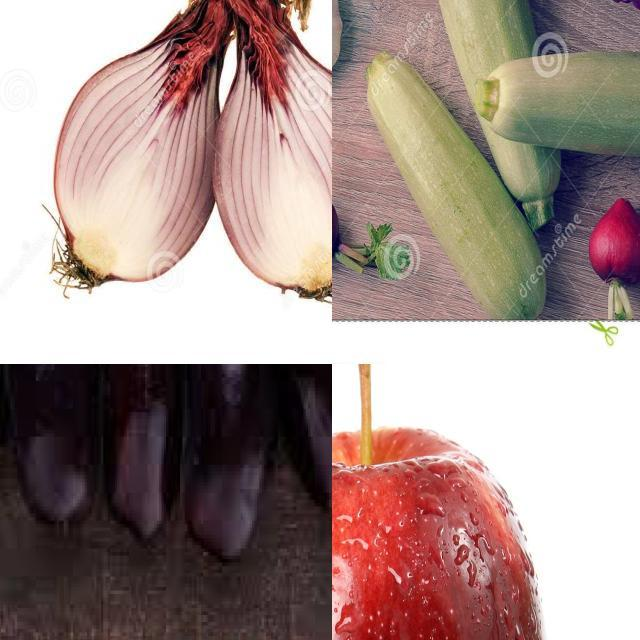eggplant: (169, 365, 269, 556), (1, 365, 99, 518), (90, 365, 176, 535), (260, 365, 333, 511)
onion: (59, 1, 218, 295), (219, 1, 333, 303)
zucchini: (364, 59, 544, 311), (423, 1, 597, 218), (460, 36, 640, 154)
